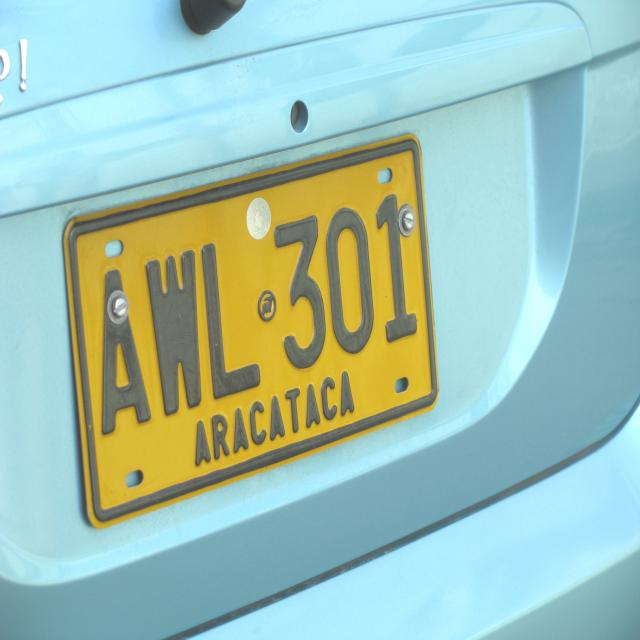placa: (60, 127, 444, 530)
